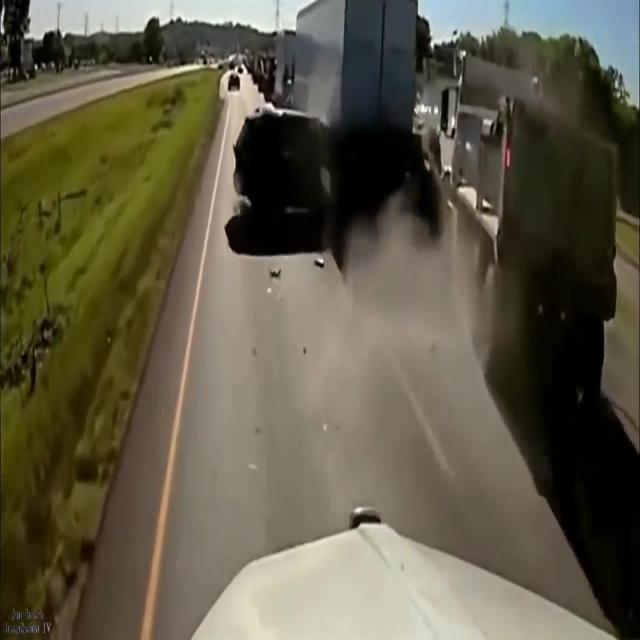accident: (219, 72, 377, 262)
